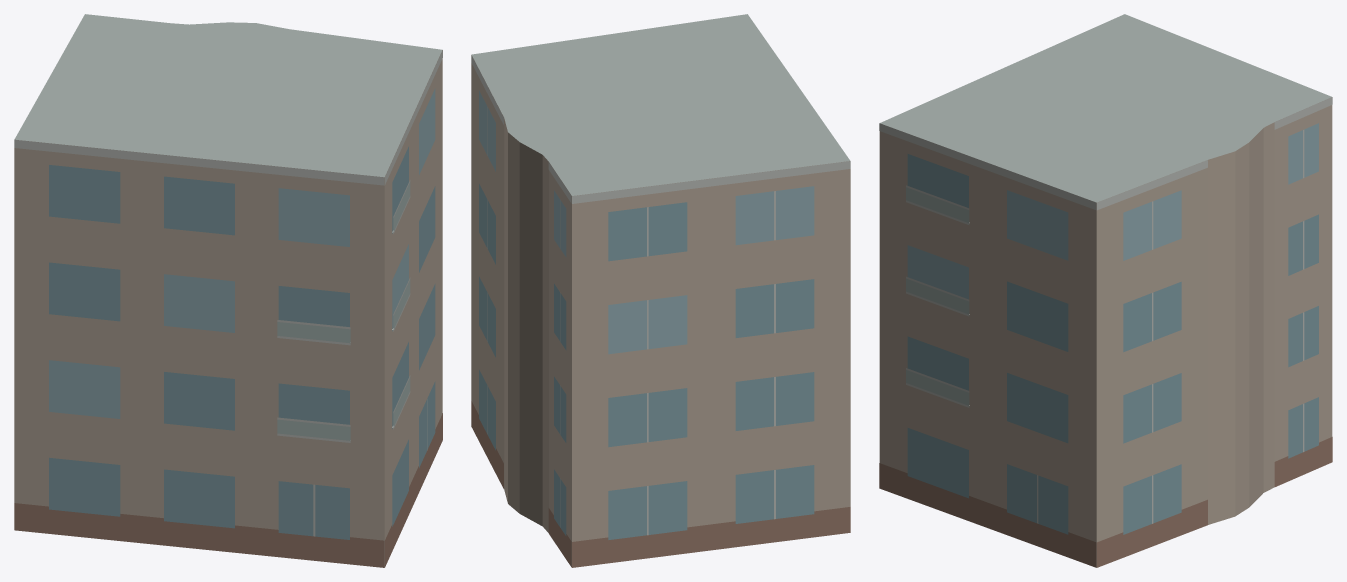
File: survey-upis-32916587.glb
3 views of the same model, side by side, from view 1: azimuth 30°, elevation 25°; view 2: azimuth 150°, elevation 25°; view 3: azimuth 270°, elevation 25° (orthographic). The views are drawn at different scales.
Parts seen in each view (by area): view 1: survey-upis-32916587.tmp; view 2: survey-upis-32916587.tmp; view 3: survey-upis-32916587.tmp.
Boxes of the visible parts, x1=… form: survey-upis-32916587.tmp: x1=14, y1=14, x2=442, y2=567; survey-upis-32916587.tmp: x1=471, y1=14, x2=850, y2=567; survey-upis-32916587.tmp: x1=879, y1=14, x2=1332, y2=567.
Size of the model in its own units: 12.63 by 11.4 by 12.82.
